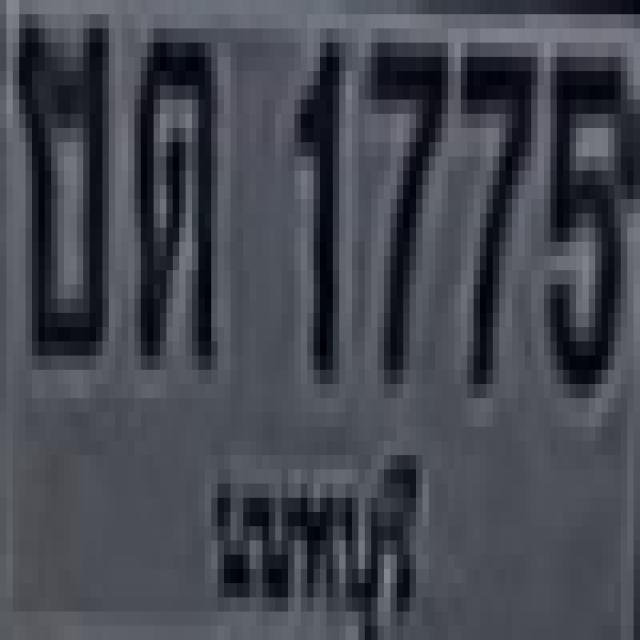1: (291, 28, 336, 370)
5: (544, 43, 627, 384)
7: (364, 28, 442, 370), (461, 35, 531, 377)
A21: (128, 28, 211, 356)
NBI: (200, 444, 420, 624)
